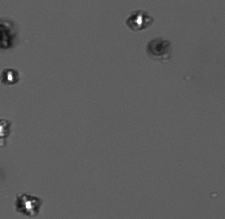Dead Cell: (148, 38, 171, 59), (1, 23, 11, 47)
Living Cell: (17, 194, 41, 215), (127, 11, 151, 30), (3, 68, 17, 84)
